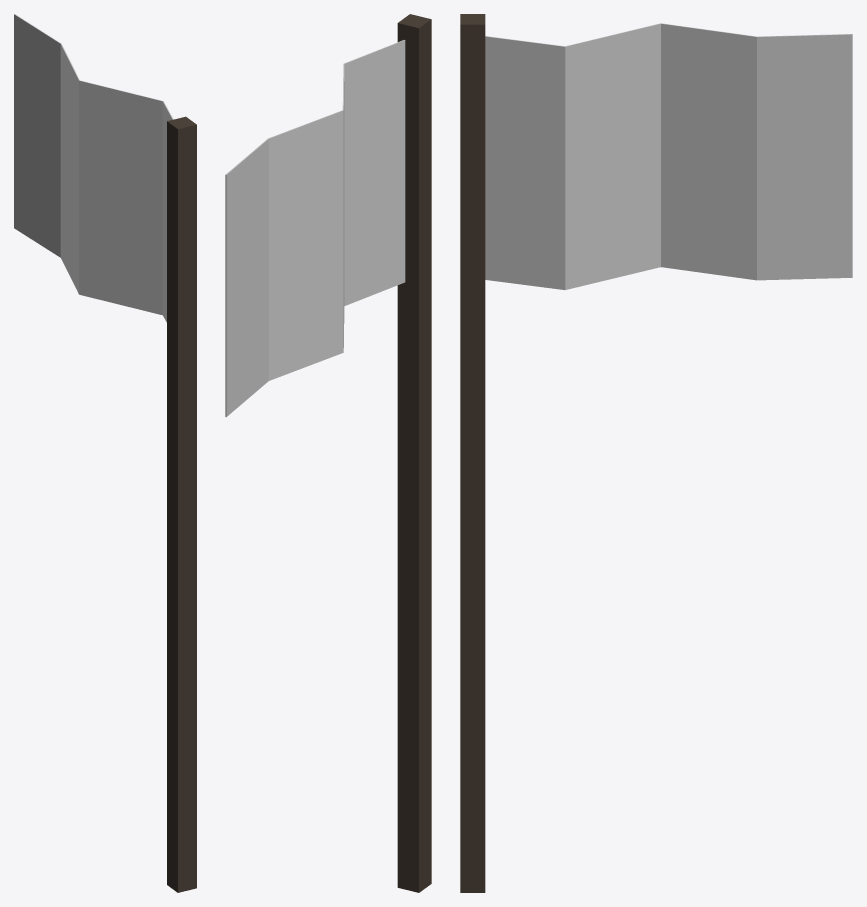
The model's file is WeisseFlagge.fbx.
3 views of the same model, side by side, from view 1: azimuth 30°, elevation 25°; view 2: azimuth 150°, elevation 25°; view 3: azimuth 270°, elevation 25° (orthographic). The views are drawn at different scales.
Parts seen in each view (by area): view 1: Plane, Flagge; view 2: Plane, Flagge; view 3: Plane, Flagge.
Boxes of the visible parts, x1=… form: Plane: x1=14, y1=14, x2=173, y2=322; Flagge: x1=167, y1=116, x2=196, y2=892; Plane: x1=225, y1=40, x2=405, y2=417; Flagge: x1=397, y1=14, x2=431, y2=892; Plane: x1=485, y1=23, x2=852, y2=289; Flagge: x1=460, y1=14, x2=485, y2=892.
Bounding box in the file's own units: 22.26 × 383 × 157.
